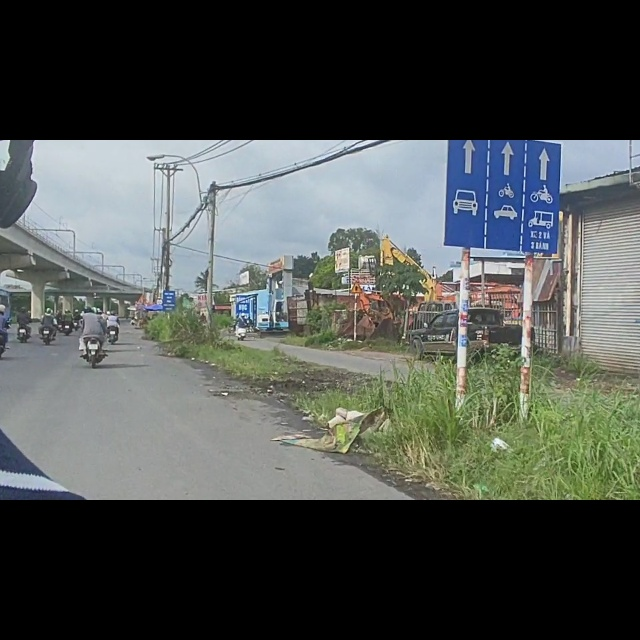bien_chi_dan: (442, 7, 567, 203), (349, 250, 364, 274)
